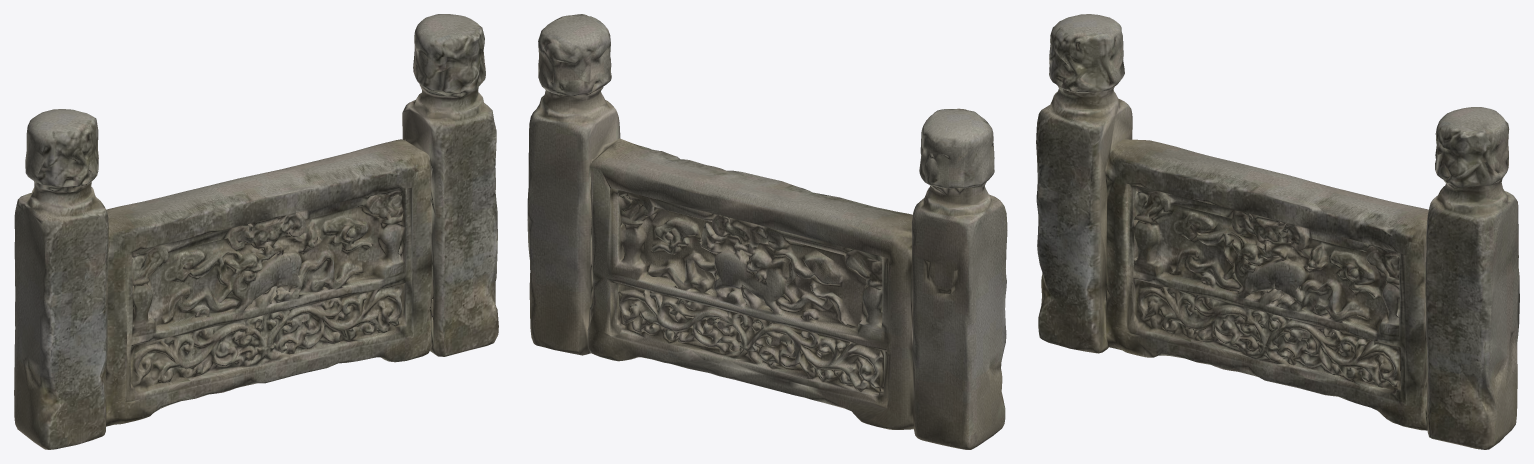
File: rail.glb
3 renders of one model, left to right at view 1: azimuth 30°, elevation 25°; view 2: azimuth 150°, elevation 25°; view 3: azimuth 330°, elevation 25°, orthographic.
Visible parts, largest first — view 1: Mesh; view 2: Mesh; view 3: Mesh.
Boxes of the visible parts, x1=… form: Mesh: x1=14, y1=14, x2=498, y2=449; Mesh: x1=527, y1=14, x2=1007, y2=449; Mesh: x1=1036, y1=14, x2=1519, y2=449.
Bounding box in the file's own units: 1 × 0.6623 × 0.1515.
1 material, 1 textured.
